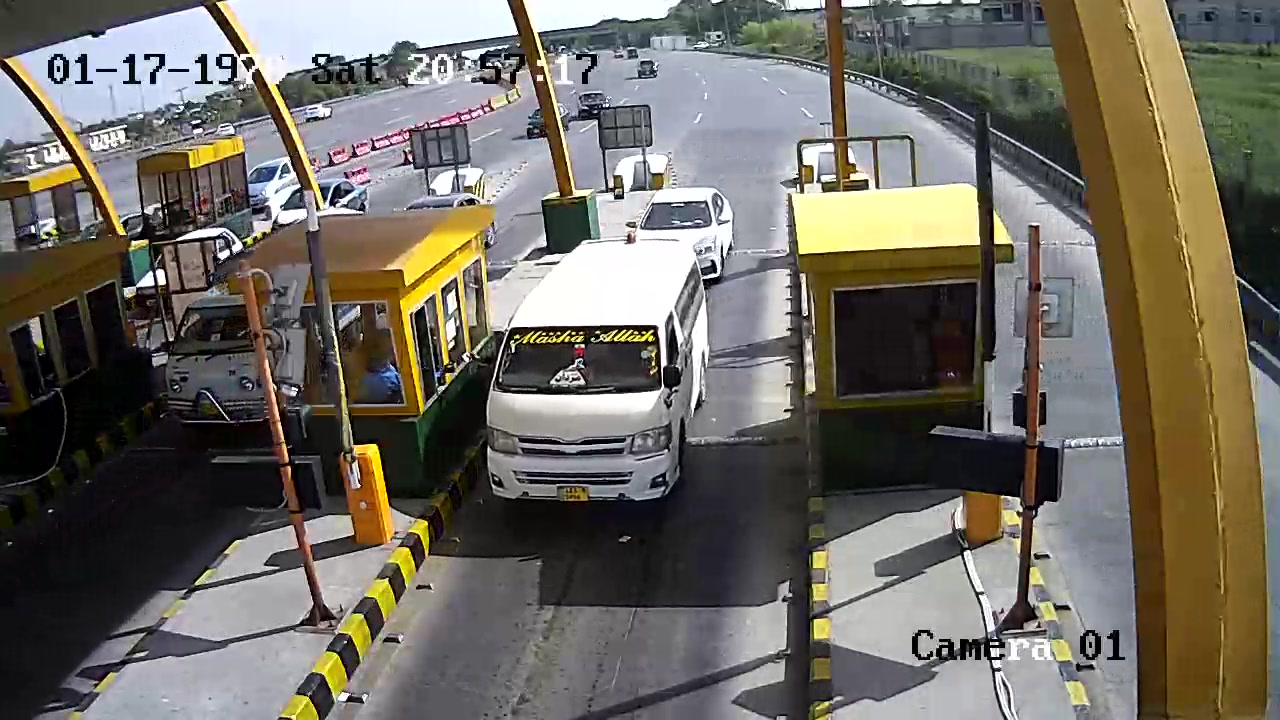F3: (482, 235, 714, 540)
